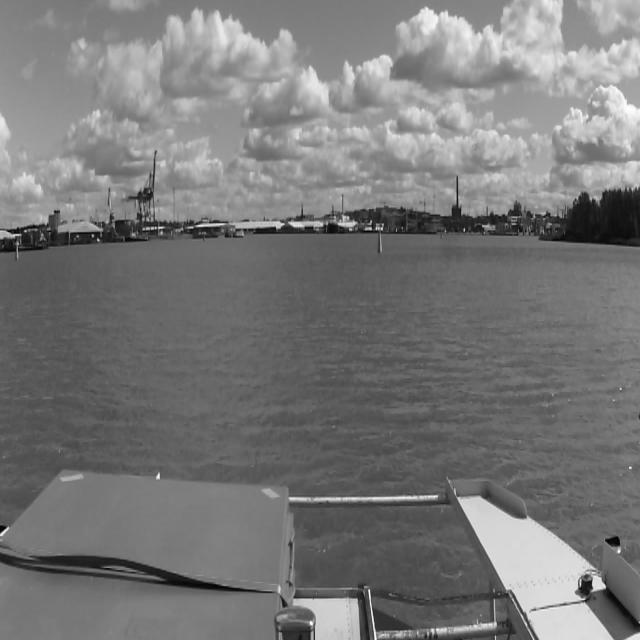buoy: (378, 226, 384, 258), (14, 239, 20, 261)
